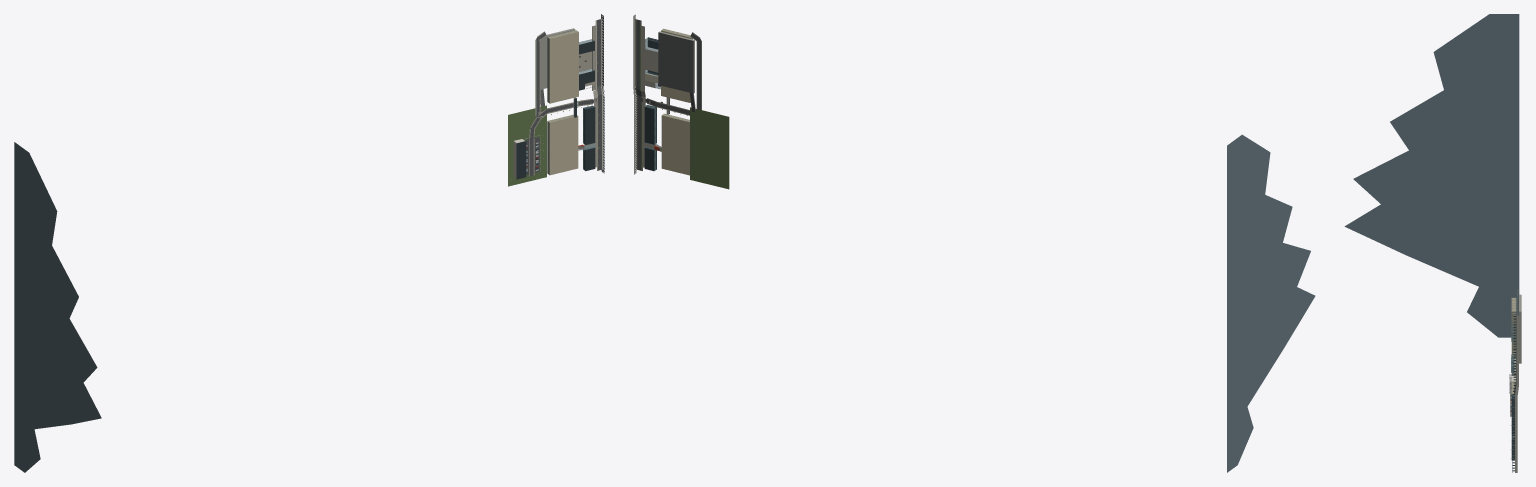
Rendered from povo_exterior.obj.
3 renders of one model, left to right at view 1: azimuth 30°, elevation 25°; view 2: azimuth 150°, elevation 25°; view 3: azimuth 270°, elevation 25°, orthographic.
Visible parts, largest first — view 1: distant_ridge_proxy, povo2_context, povo1_context, west_grass; view 2: distant_ridge_proxy, west_grass, garage_floor, povo1_context; view 3: distant_ridge_proxy, povo2_context, street_end_gate_base_0, street_end_gate_base_2.
Boxes of the visible parts, x1,y1,x2,y2 form: distant_ridge_proxy: (14,142,101,472); povo2_context: (547,30,578,103); povo1_context: (547,114,578,175); west_grass: (508,105,546,186); distant_ridge_proxy: (1227,134,1315,472); west_grass: (690,107,729,189); garage_floor: (658,32,693,93); povo1_context: (661,113,689,175); distant_ridge_proxy: (1344,14,1519,337); povo2_context: (1511,297,1516,376); street_end_gate_base_0: (1515,395,1517,472); street_end_gate_base_2: (1516,315,1518,385).
Bounding box in the file's own units: 968 × 510 × 253.
